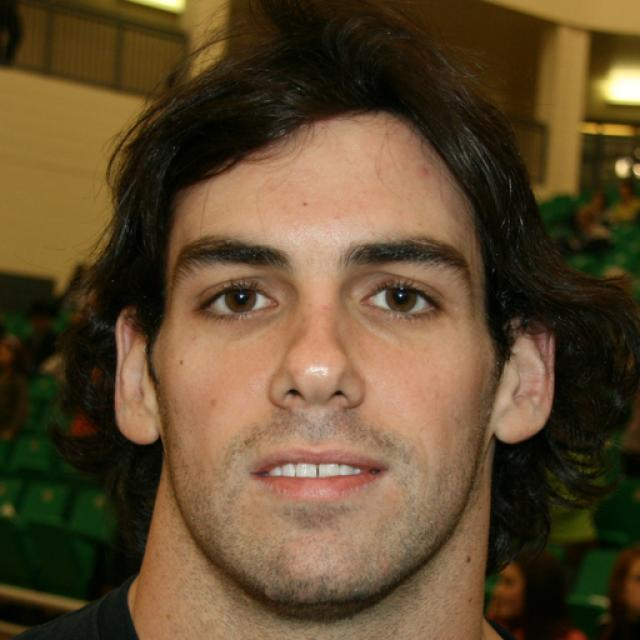content: (152, 95, 496, 605)
